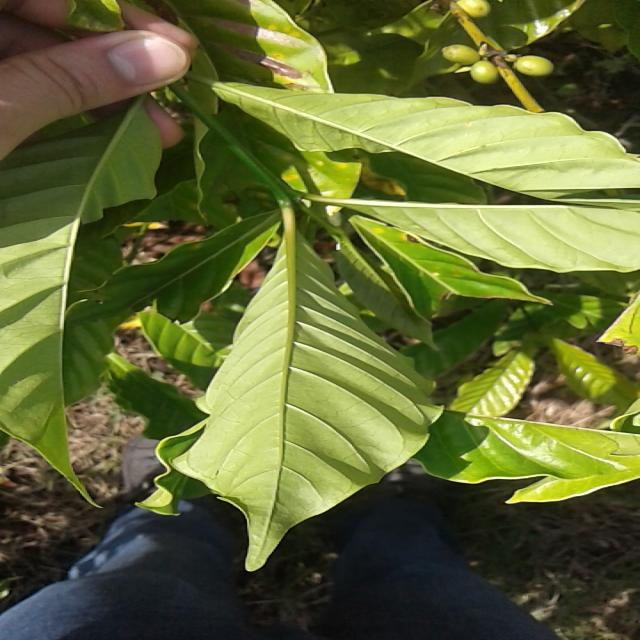Sanas: (146, 250, 428, 575)
